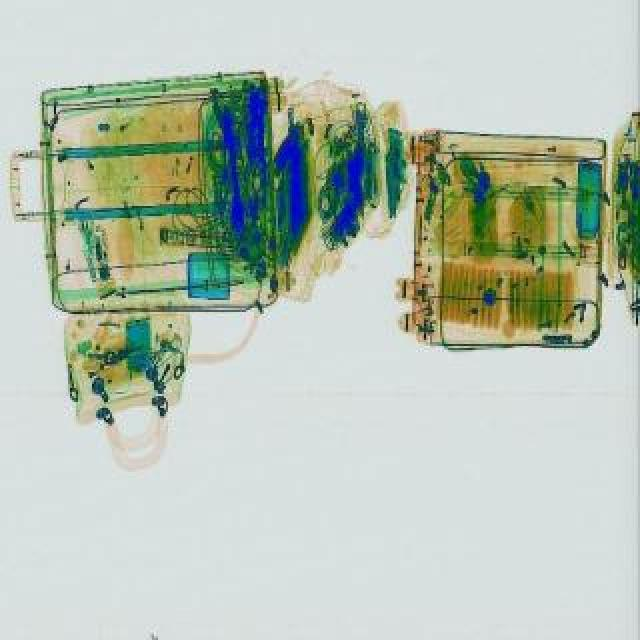scissors: (216, 108, 252, 236)
